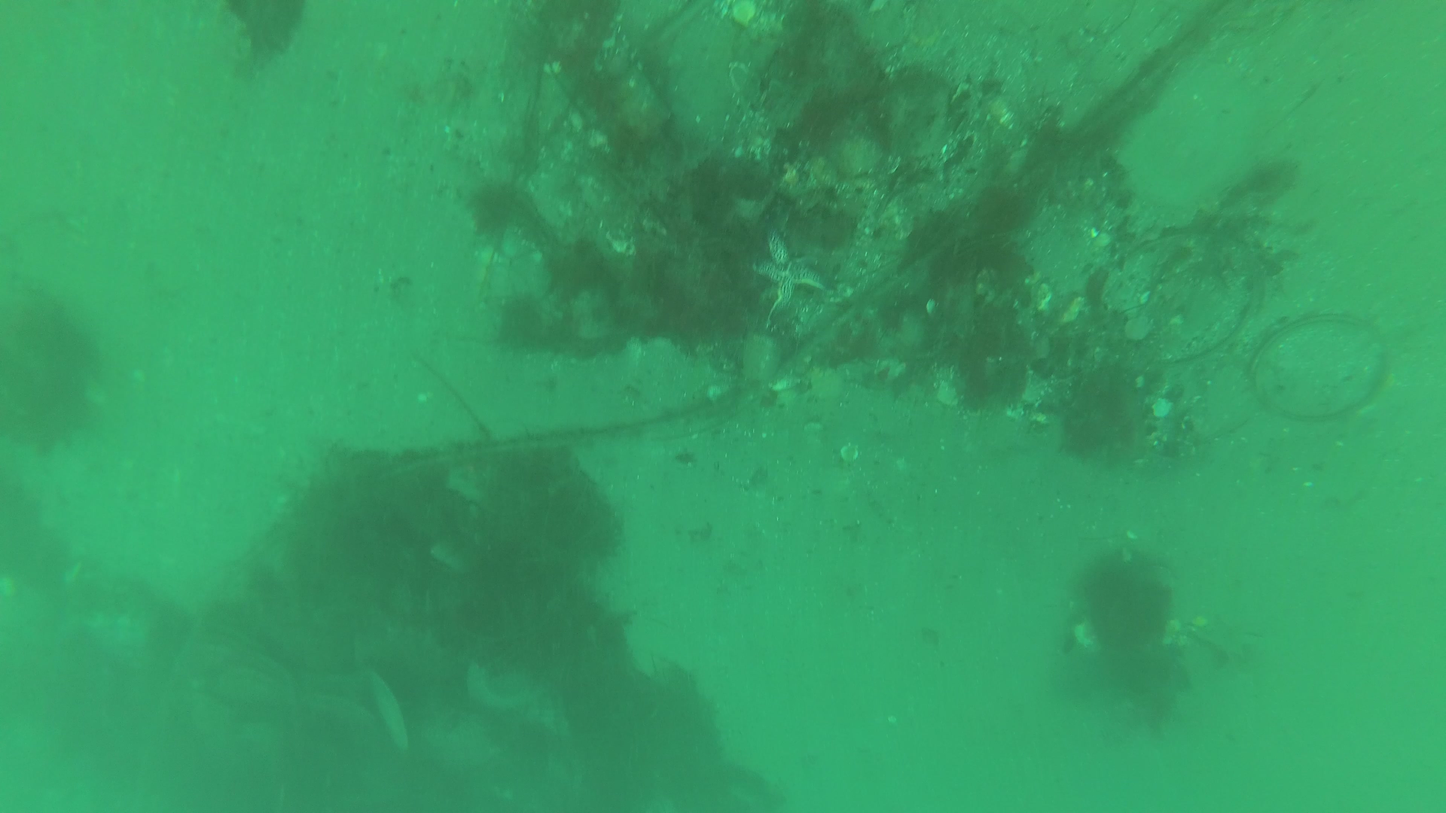holothurian: (744, 219, 830, 327)
